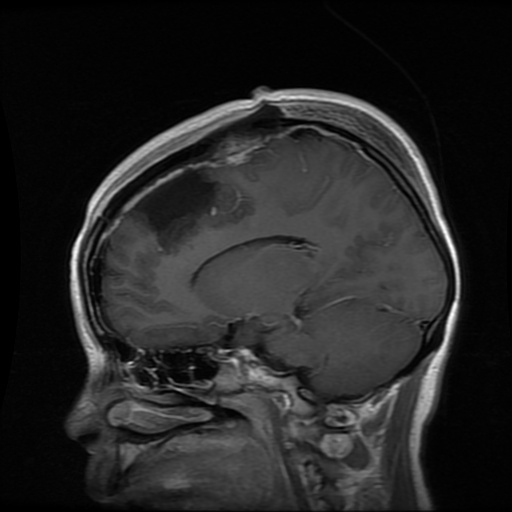glioma: (130, 170, 252, 257)
